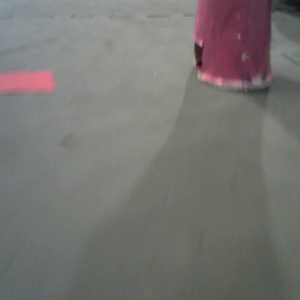right: (190, 1, 278, 94)
